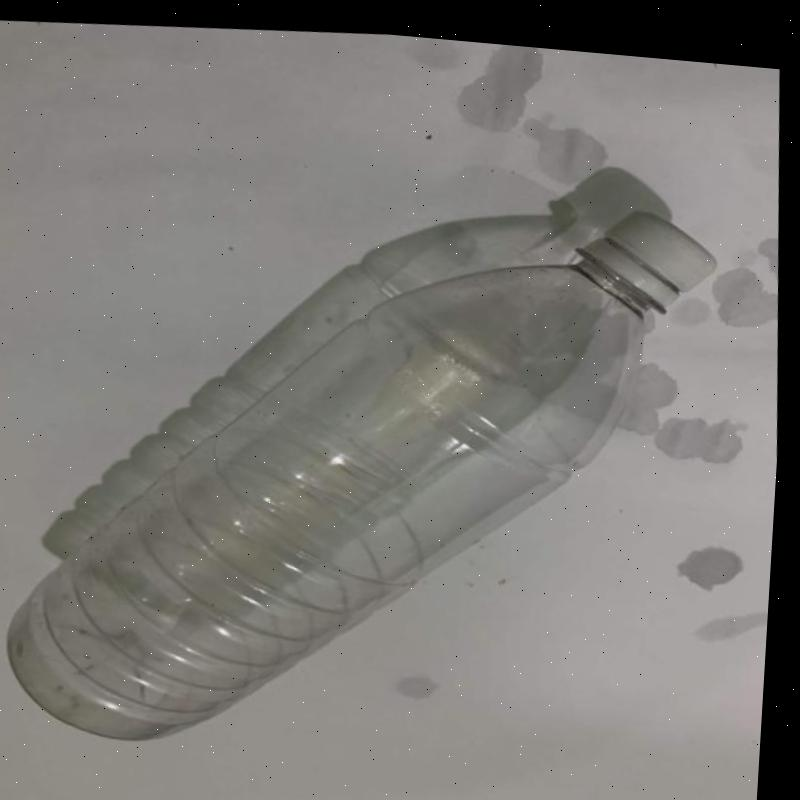botella: (0, 145, 747, 786)
